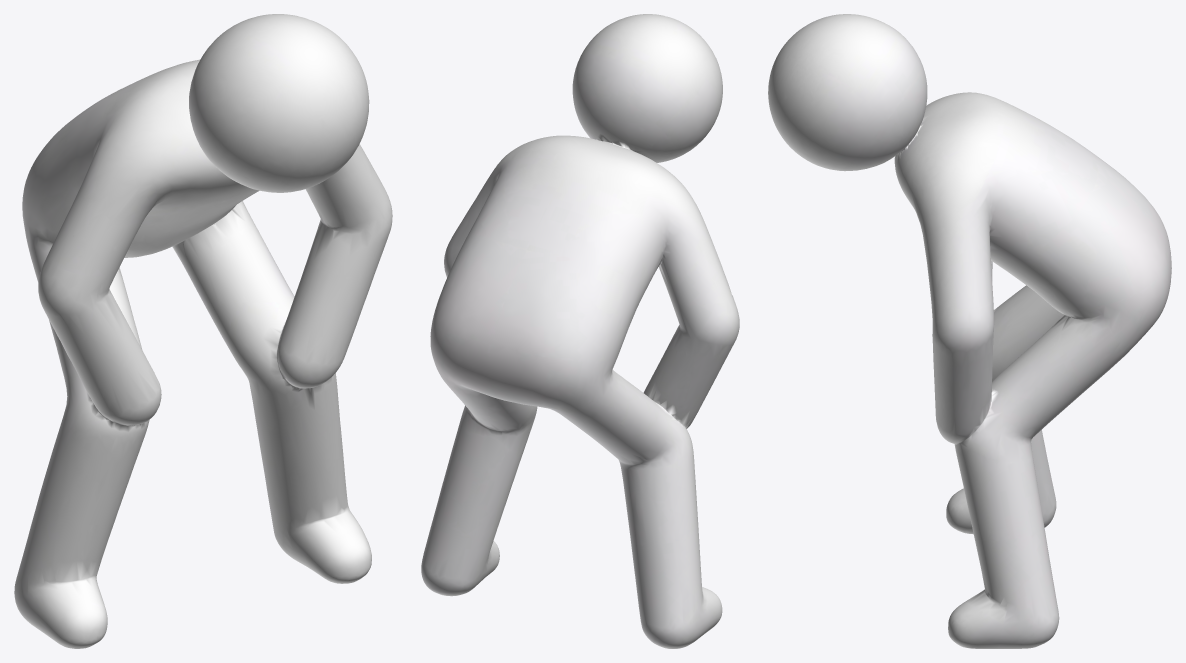
File: cansado.glb
3 renders of one model, left to right at view 1: azimuth 30°, elevation 25°; view 2: azimuth 150°, elevation 25°; view 3: azimuth 270°, elevation 25°, orthographic. The views are drawn at different scales.
Parts seen in each view (by area): view 1: mesh_node; view 2: mesh_node; view 3: mesh_node.
Part boxes in pixels (x1,y1,x2,y2): mesh_node: [14, 14, 392, 648]; mesh_node: [421, 14, 739, 648]; mesh_node: [768, 14, 1171, 648].
Bounding box in the file's own units: 1.13 × 2 × 1.3.
Materials: 1 (1 with a texture image).
